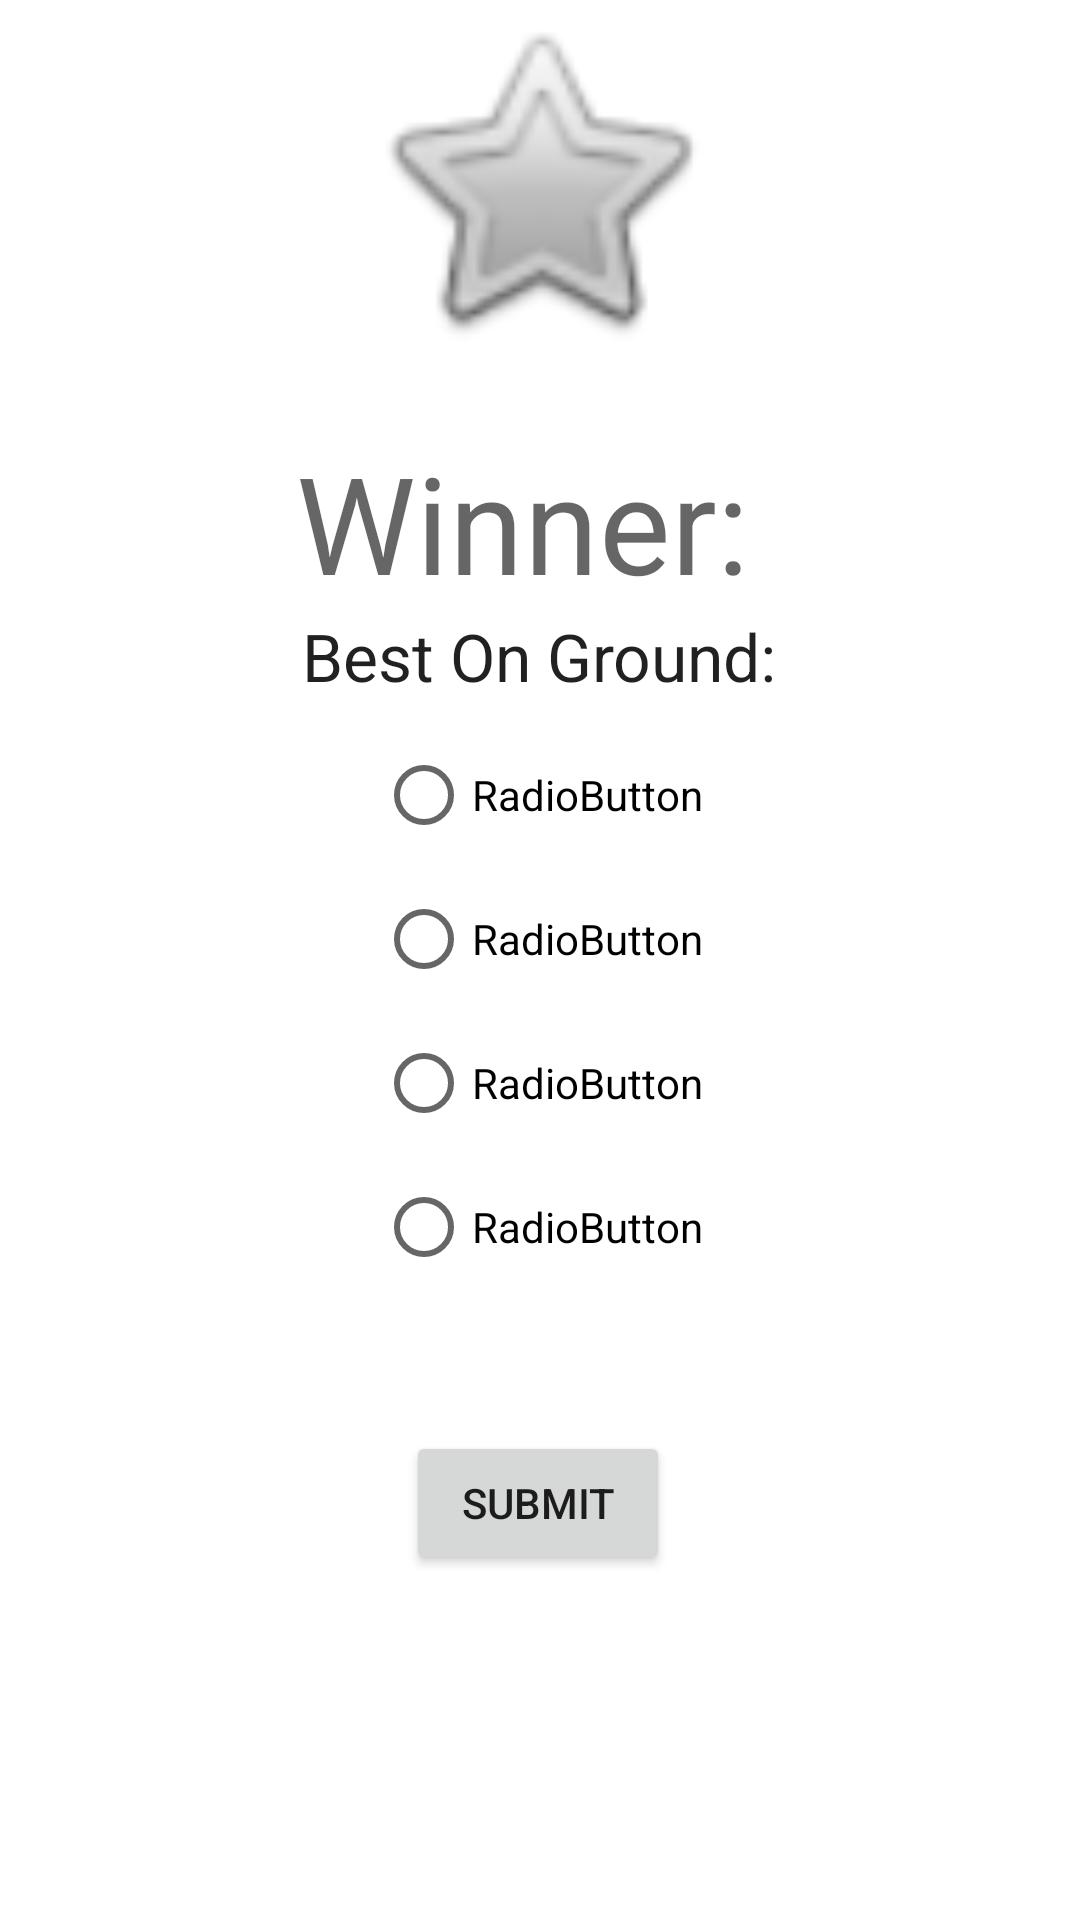

Named icons in this screenshot (1080*1920) and their centers, (x,y):
star: (542,182)
